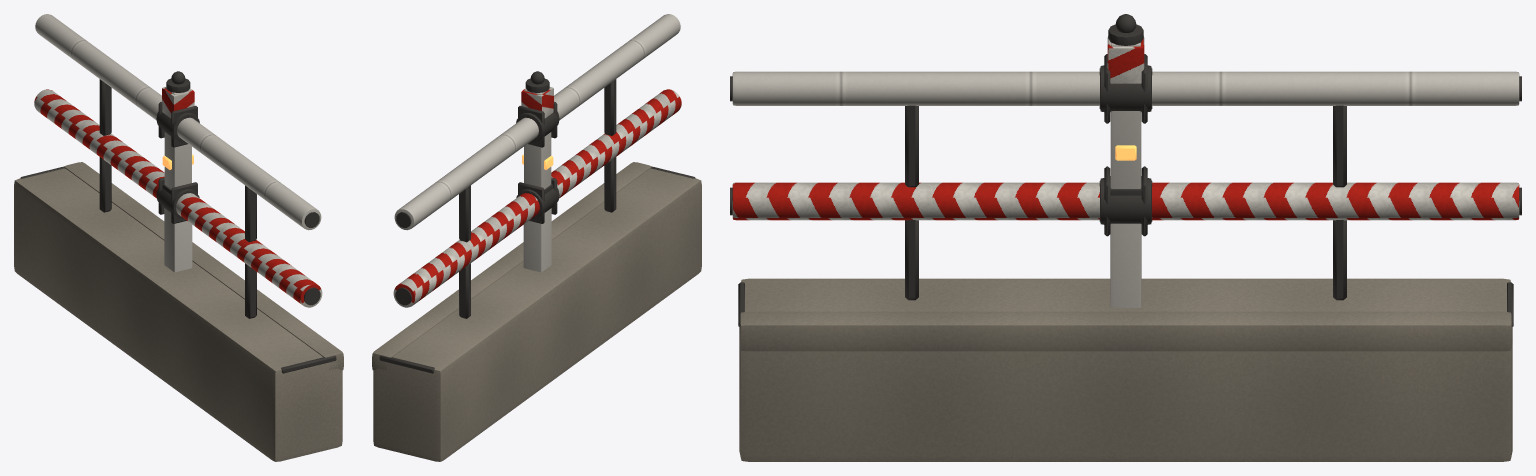
The model's file is barrier_kit.glb.
3 views of the same model, side by side, from view 1: azimuth 30°, elevation 25°; view 2: azimuth 150°, elevation 25°; view 3: azimuth 270°, elevation 25° (orthographic). The views are drawn at different scales.
Parts seen in each view (by area): view 1: kerb, rail_low, rail_high, chamfer, lower, upper, standoff.003, standoff.001, collar, standoff.002, standoff, sleeve.001 (+2 smaller); view 2: kerb, rail_low, rail_high, chamfer, lower, upper, standoff.002, standoff, collar, standoff.003, standoff.001, sleeve.001 (+2 smaller); view 3: kerb, chamfer, rail_low, rail_high, lower, upper, sleeve, sleeve.001, collar, standoff.002, standoff.003, standoff (+1 smaller).
Boxes of the visible parts, left/top/right/bottom form: kerb: left=14, top=168, right=342, bottom=461; rail_low: left=34, top=89, right=322, bottom=307; rail_high: left=35, top=14, right=321, bottom=230; chamfer: left=64, top=162, right=343, bottom=370; lower: left=164, top=208, right=192, bottom=272; upper: left=164, top=87, right=191, bottom=189; standoff.003: left=99, top=79, right=111, bottom=135; standoff.001: left=99, top=157, right=111, bottom=212; collar: left=162, top=87, right=194, bottom=118; standoff.002: left=245, top=185, right=256, bottom=242; standoff: left=245, top=263, right=256, bottom=318; sleeve.001: left=156, top=111, right=199, bottom=142; kerb: left=373, top=168, right=701, bottom=461; rail_low: left=393, top=89, right=681, bottom=307; rail_high: left=394, top=14, right=680, bottom=230; chamfer: left=372, top=162, right=651, bottom=370; lower: left=523, top=208, right=551, bottom=272; upper: left=524, top=87, right=551, bottom=189; standoff.002: left=604, top=79, right=616, bottom=135; standoff: left=604, top=157, right=616, bottom=212; collar: left=521, top=87, right=553, bottom=118; standoff.003: left=459, top=185, right=470, bottom=242; standoff.001: left=459, top=263, right=470, bottom=318; sleeve.001: left=516, top=111, right=559, bottom=142; kerb: left=739, top=278, right=1512, bottom=461; chamfer: left=739, top=311, right=1512, bottom=351; rail_low: left=732, top=182, right=1519, bottom=220; rail_high: left=732, top=71, right=1519, bottom=105; lower: left=1110, top=223, right=1141, bottom=307; upper: left=1110, top=42, right=1141, bottom=188; sleeve: left=1100, top=178, right=1151, bottom=224; sleeve.001: left=1100, top=65, right=1151, bottom=111; collar: left=1107, top=36, right=1144, bottom=83; standoff.002: left=905, top=105, right=918, bottom=187; standoff.003: left=1333, top=105, right=1346, bottom=187; standoff: left=905, top=220, right=918, bottom=300.
Size of the model in its own units: 0.345 by 1.36 by 2.29.
Materials: 5 (4 with a texture image).
